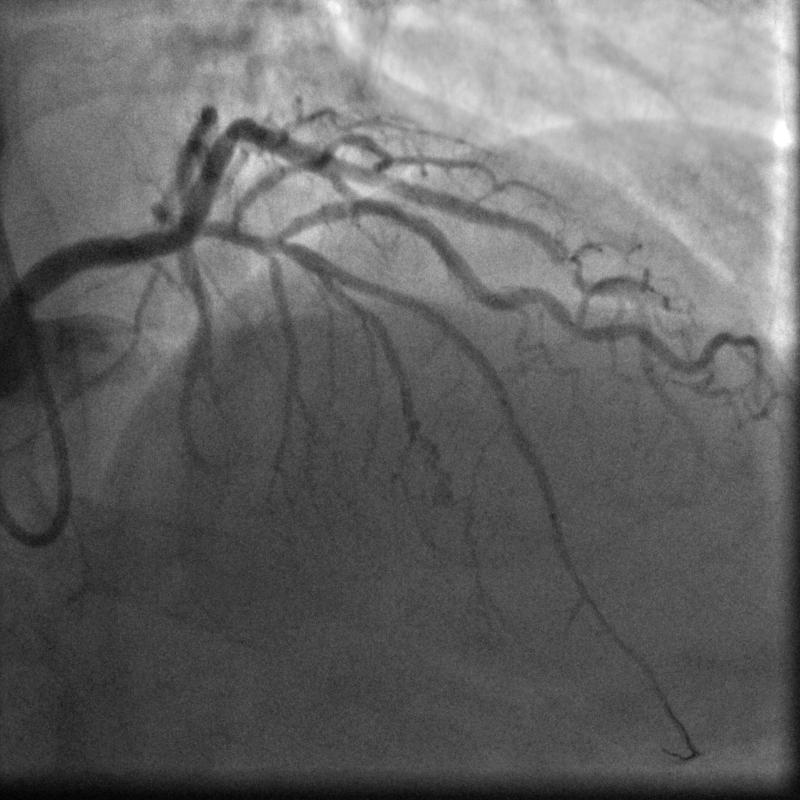Stenosis: (376, 193, 427, 237)
